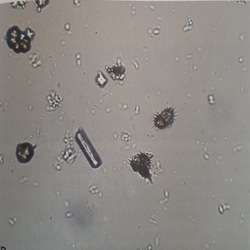Crystal: (72, 124, 104, 171), (94, 69, 107, 89), (25, 24, 40, 39)
